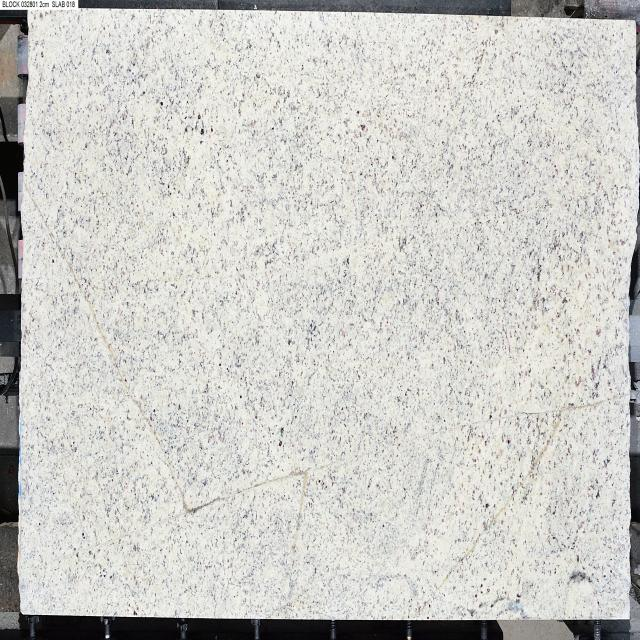chapa: (19, 10, 638, 620)
